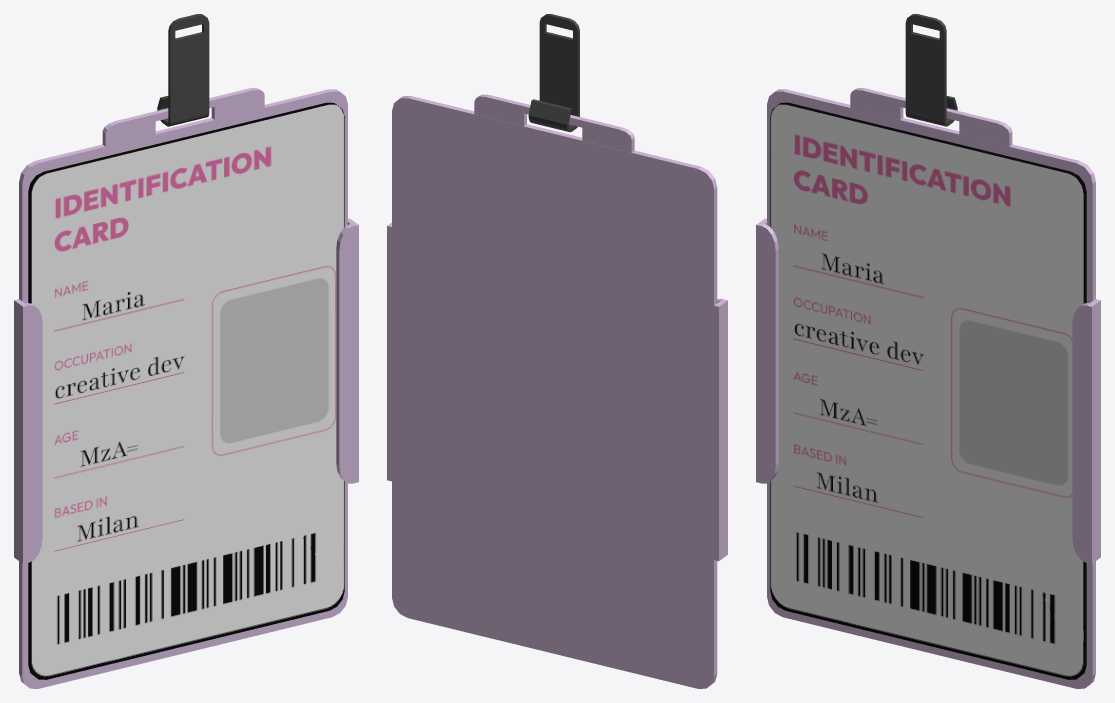
Rendered from badge7.glb.
The picture shows the model from 3 angles, left to right: view 1: azimuth 30°, elevation 25°; view 2: azimuth 150°, elevation 25°; view 3: azimuth 330°, elevation 25°; orthographic projection.
Parts seen in each view (by area): view 1: card, card-holder, clasp; view 2: card-holder, clasp; view 3: card, card-holder, clasp.
Part boxes in pixels (bbox=[...]): card: bbox=[28, 102, 344, 679]; card-holder: bbox=[14, 88, 358, 688]; clasp: bbox=[157, 14, 209, 126]; card-holder: bbox=[387, 94, 727, 688]; clasp: bbox=[528, 14, 579, 132]; card: bbox=[770, 102, 1086, 679]; card-holder: bbox=[756, 88, 1100, 688]; clasp: bbox=[905, 14, 957, 126].
Bounding box in the file's own units: 1.9 × 3.46 × 0.1409.
3 materials, 1 textured.
